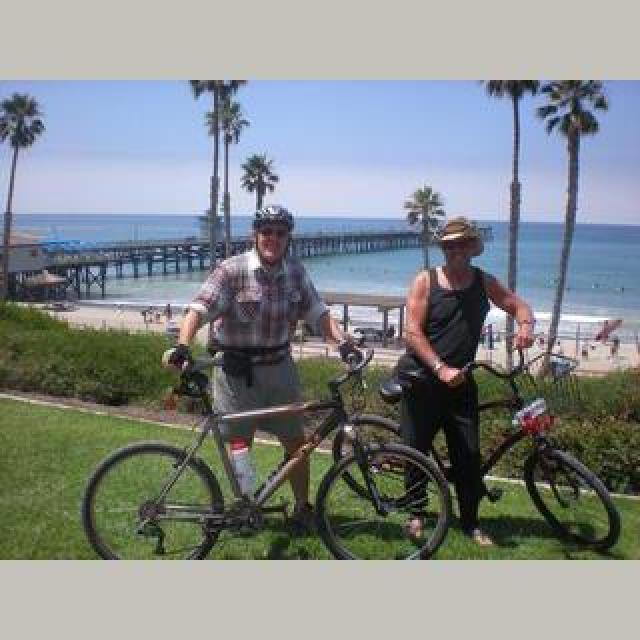MC-Bike: (168, 206, 362, 542), (384, 214, 536, 544)
Person: (81, 350, 443, 560), (368, 346, 626, 556)
